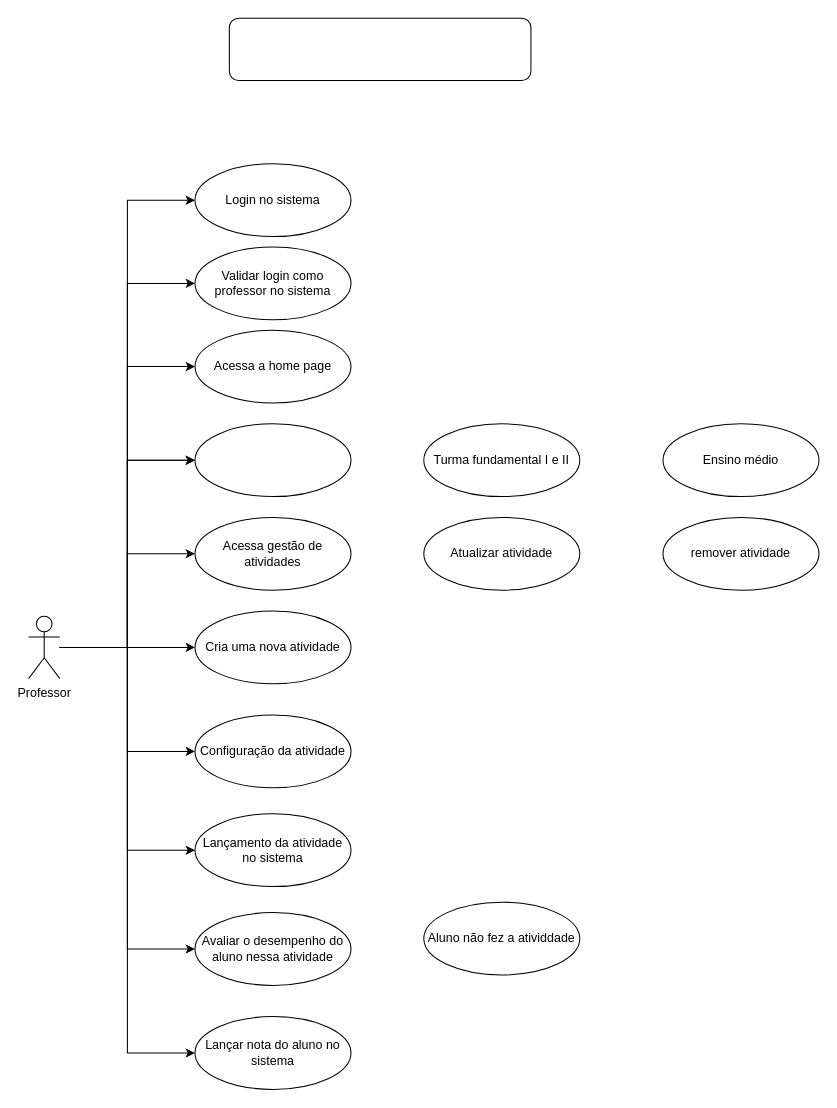
This 837x1108 diagram has some shape labels left out. Here are the shapes that lost their labels. From the top down, the box of each, then its label:
(228, 17, 531, 81): Caso de uso 2: Professor gerenciando atividades
(194, 423, 351, 497): Acessa gestão de turmas
